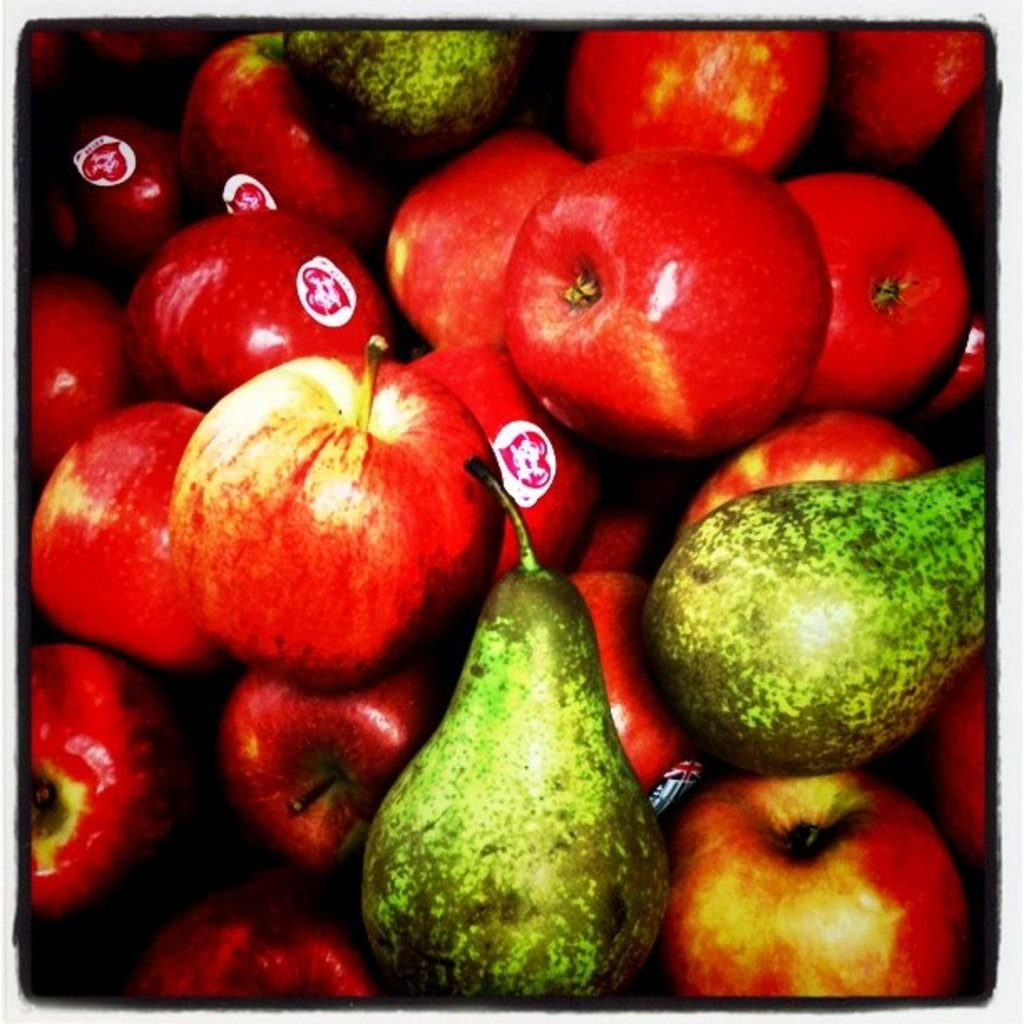Apple: (21, 28, 1010, 1010)
